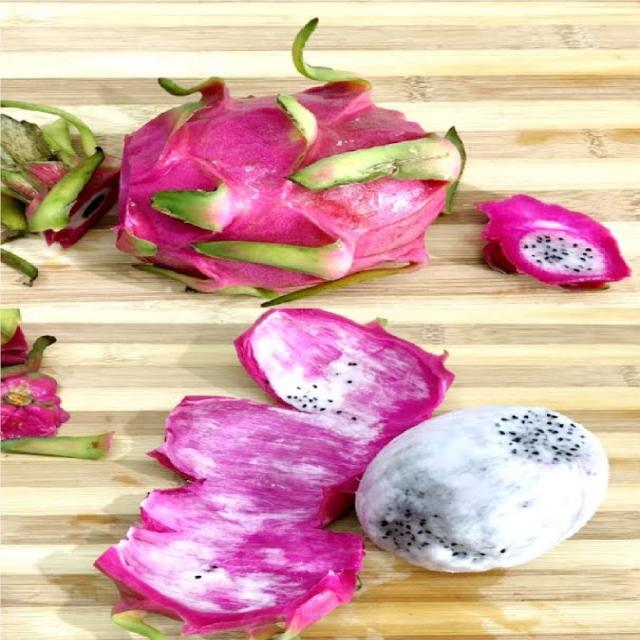Wet: (94, 308, 458, 640), (111, 17, 468, 309), (357, 406, 608, 573), (476, 194, 632, 292)
